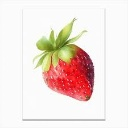strawberry: (32, 22, 97, 103)
